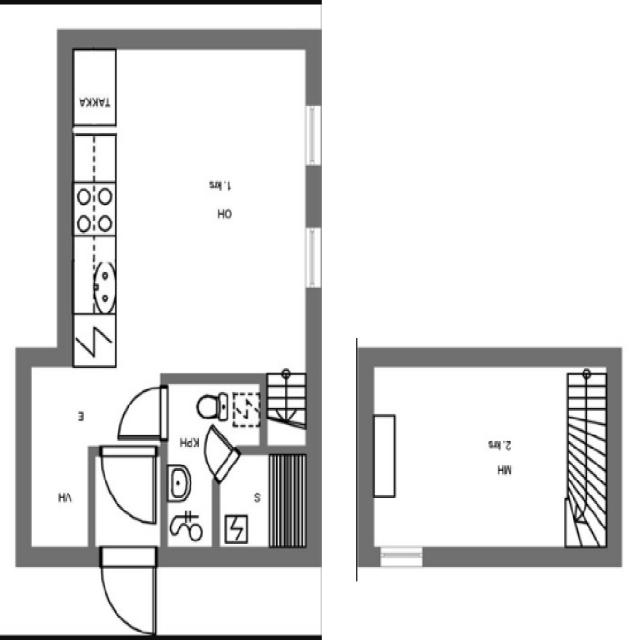door: (99, 444, 159, 527), (102, 562, 156, 633), (115, 382, 166, 441), (203, 431, 235, 484)
window: (300, 98, 326, 175), (301, 221, 326, 295), (376, 540, 430, 570)
zone: (70, 42, 311, 366), (369, 357, 613, 547), (30, 358, 93, 554), (163, 382, 222, 552), (162, 380, 265, 476), (216, 447, 310, 551)
